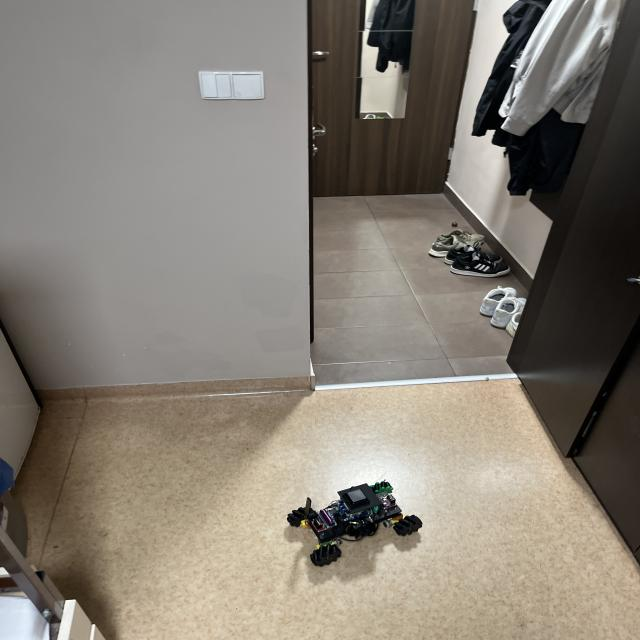robot: (287, 481, 422, 566)
